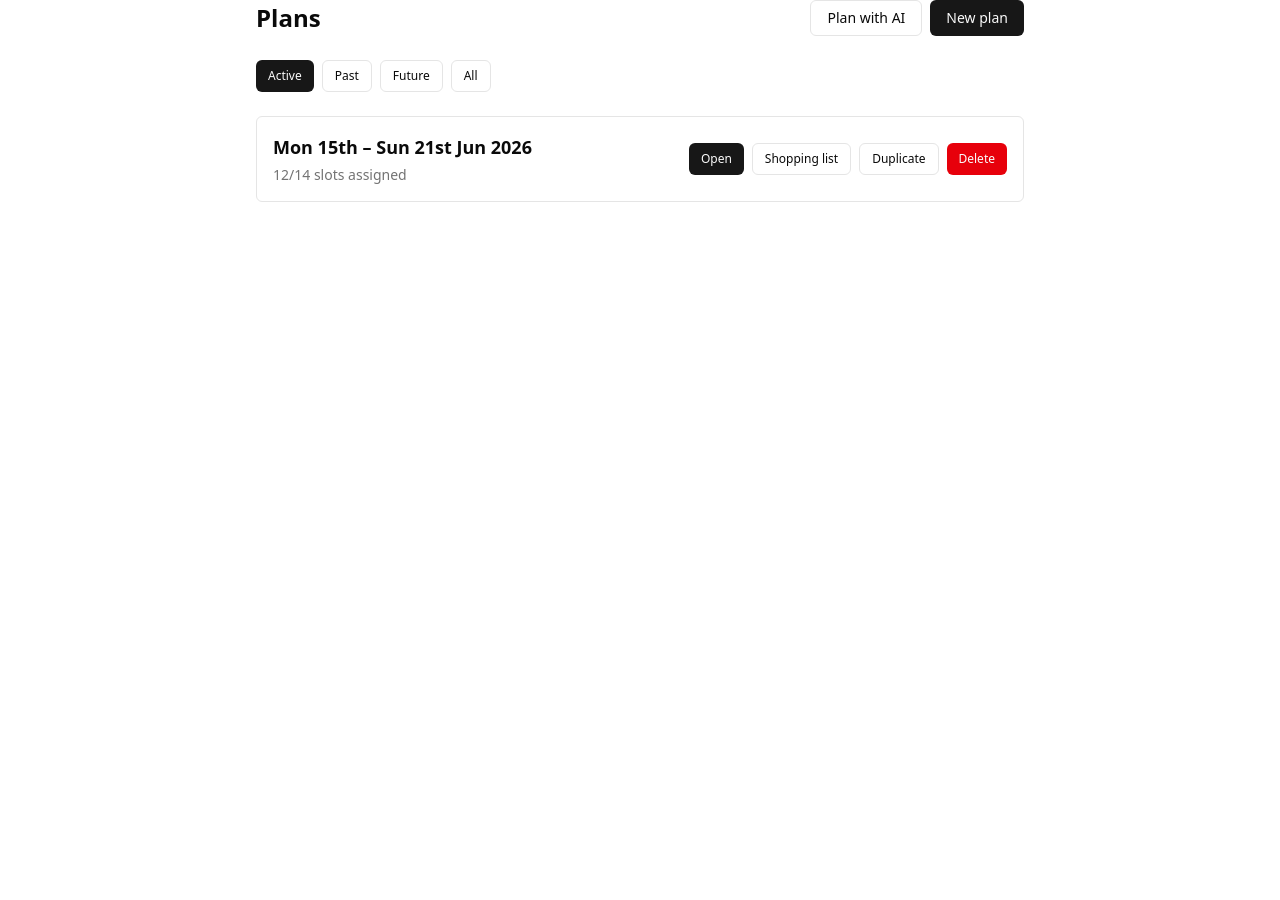
Scenario: PlansPage › new-plan dialog surfaces PLAN_DATE_OVERLAP and stays open
Click the button "New plan" at (977, 18), box top-left (930, 0), bottom-right (1024, 36)
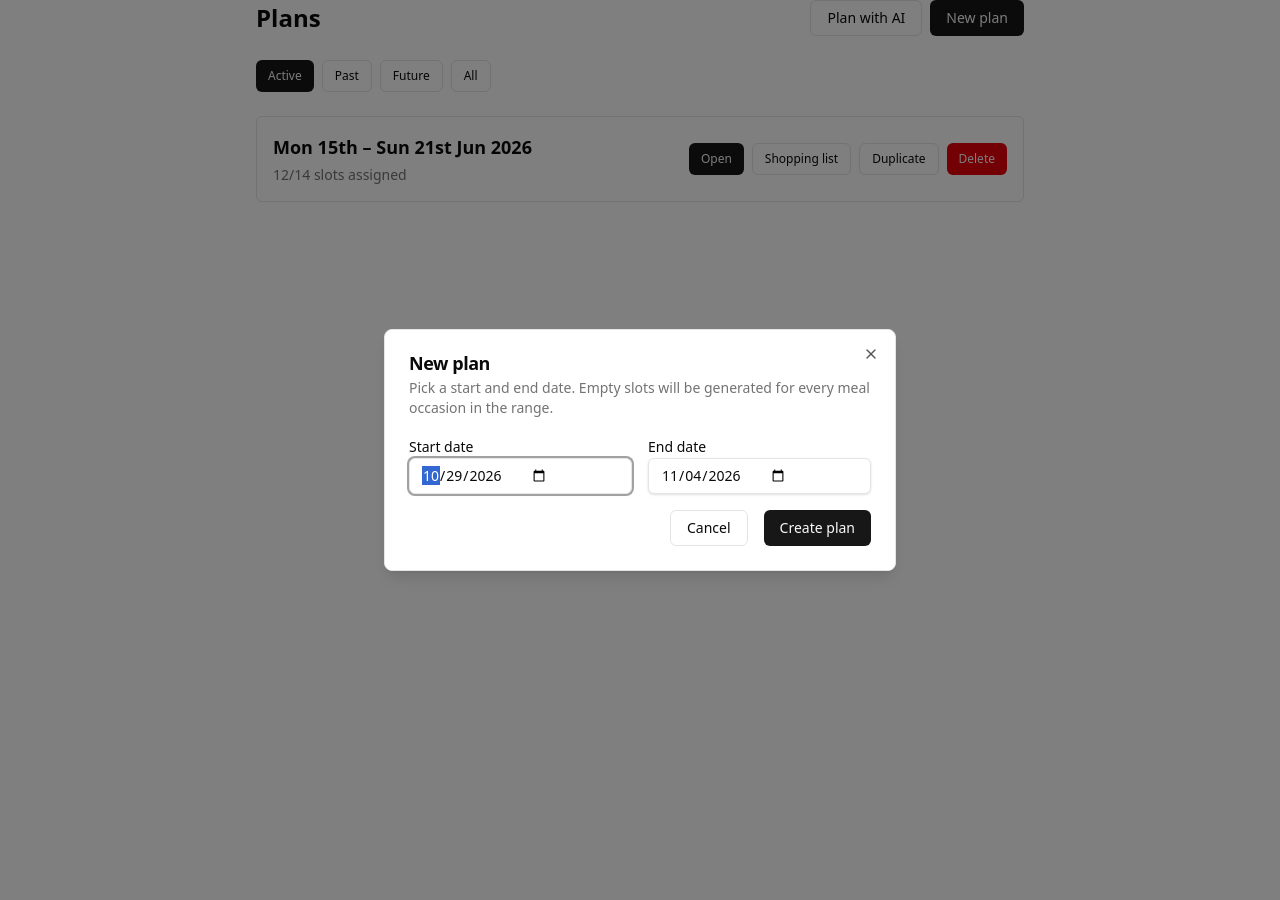
Click the button "Create plan" at (817, 528), box top-left (764, 510), bottom-right (871, 546)
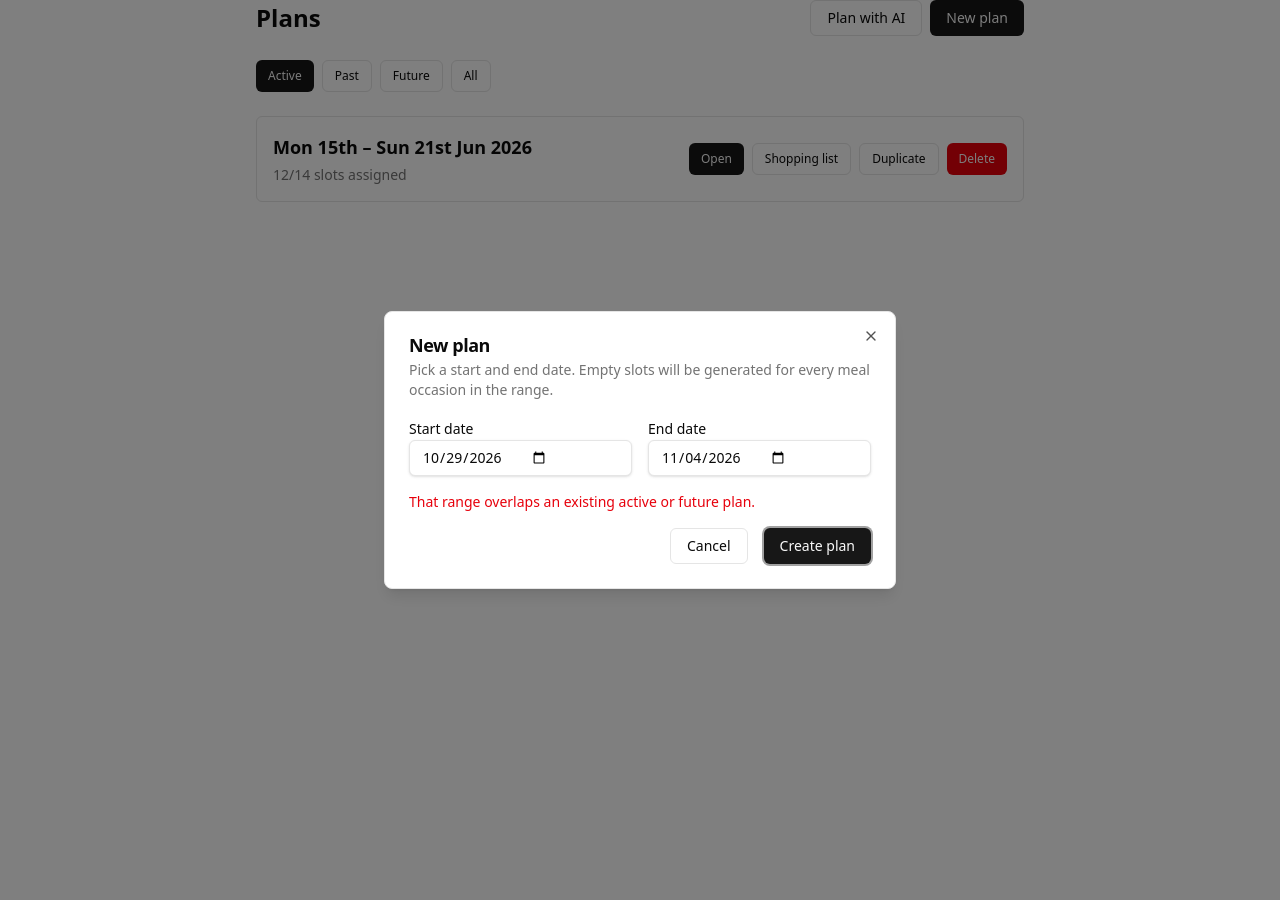
Check: the text "That range overlaps an existing active or future plan." is shown, box top-left (409, 492), bottom-right (755, 511)
